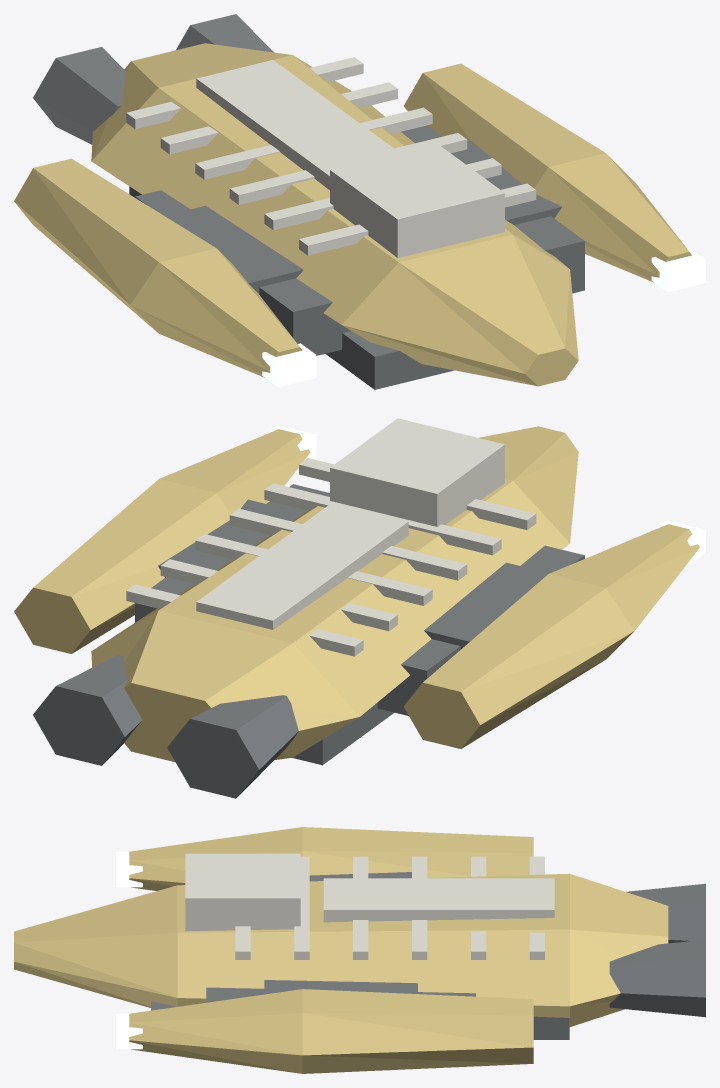
3 renders of one model, top to bottom at view 1: azimuth 30°, elevation 25°; view 2: azimuth 150°, elevation 25°; view 3: azimuth 270°, elevation 25°, orthographic. The views are drawn at different scales.
Size of the model in its own units: 5.63 by 1.55 by 7.84.
